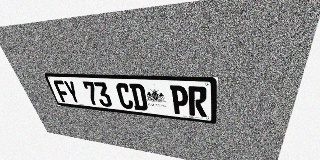3: (93, 82, 113, 107)
7: (82, 81, 101, 106)
C: (115, 83, 134, 110)
D: (129, 83, 148, 111)
F: (53, 80, 72, 103)
P: (170, 85, 189, 115)
R: (188, 86, 207, 117)
Y: (63, 80, 82, 104)
